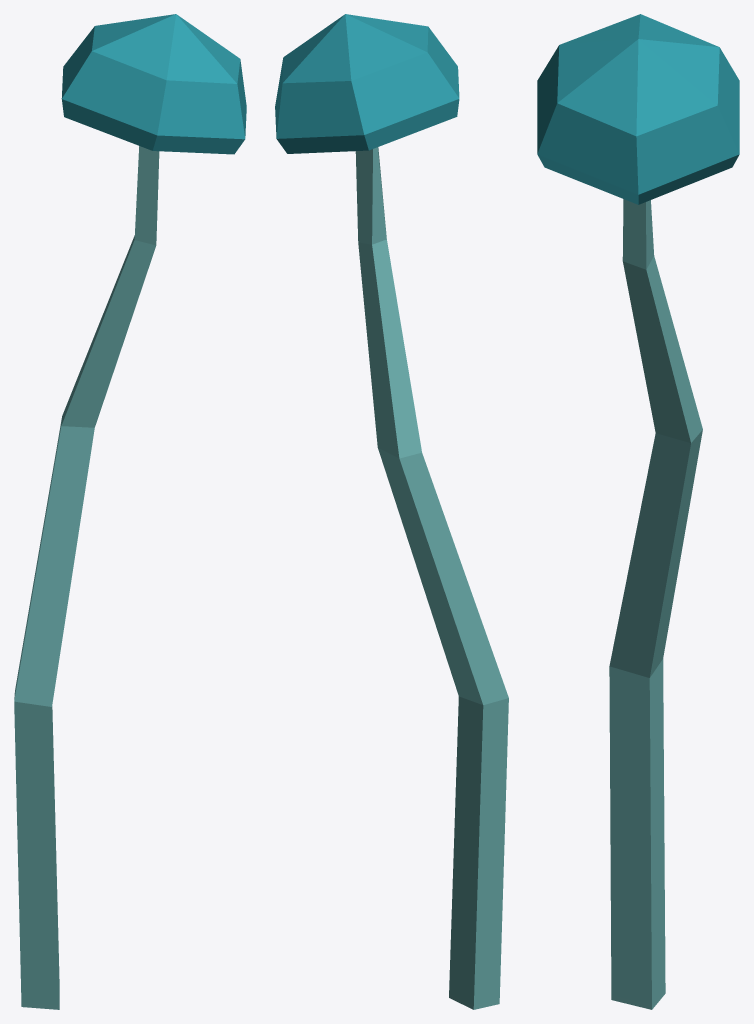
File: Mushroom-D05.fbx
3 views of the same model, side by side, from view 1: azimuth 30°, elevation 25°; view 2: azimuth 150°, elevation 25°; view 3: azimuth 270°, elevation 25° (orthographic). The views are drawn at different scales.
Visible parts, largest first — view 1: Mushroom-D05; view 2: Mushroom-D05; view 3: Mushroom-D05.
Boxes of the visible parts, x1,y1,x2,y2 form: Mushroom-D05: (14,14,246,1009); Mushroom-D05: (275,14,508,1009); Mushroom-D05: (537,14,739,1009).
Size of the model in its own units: 21.06 by 82.31 by 14.68.
